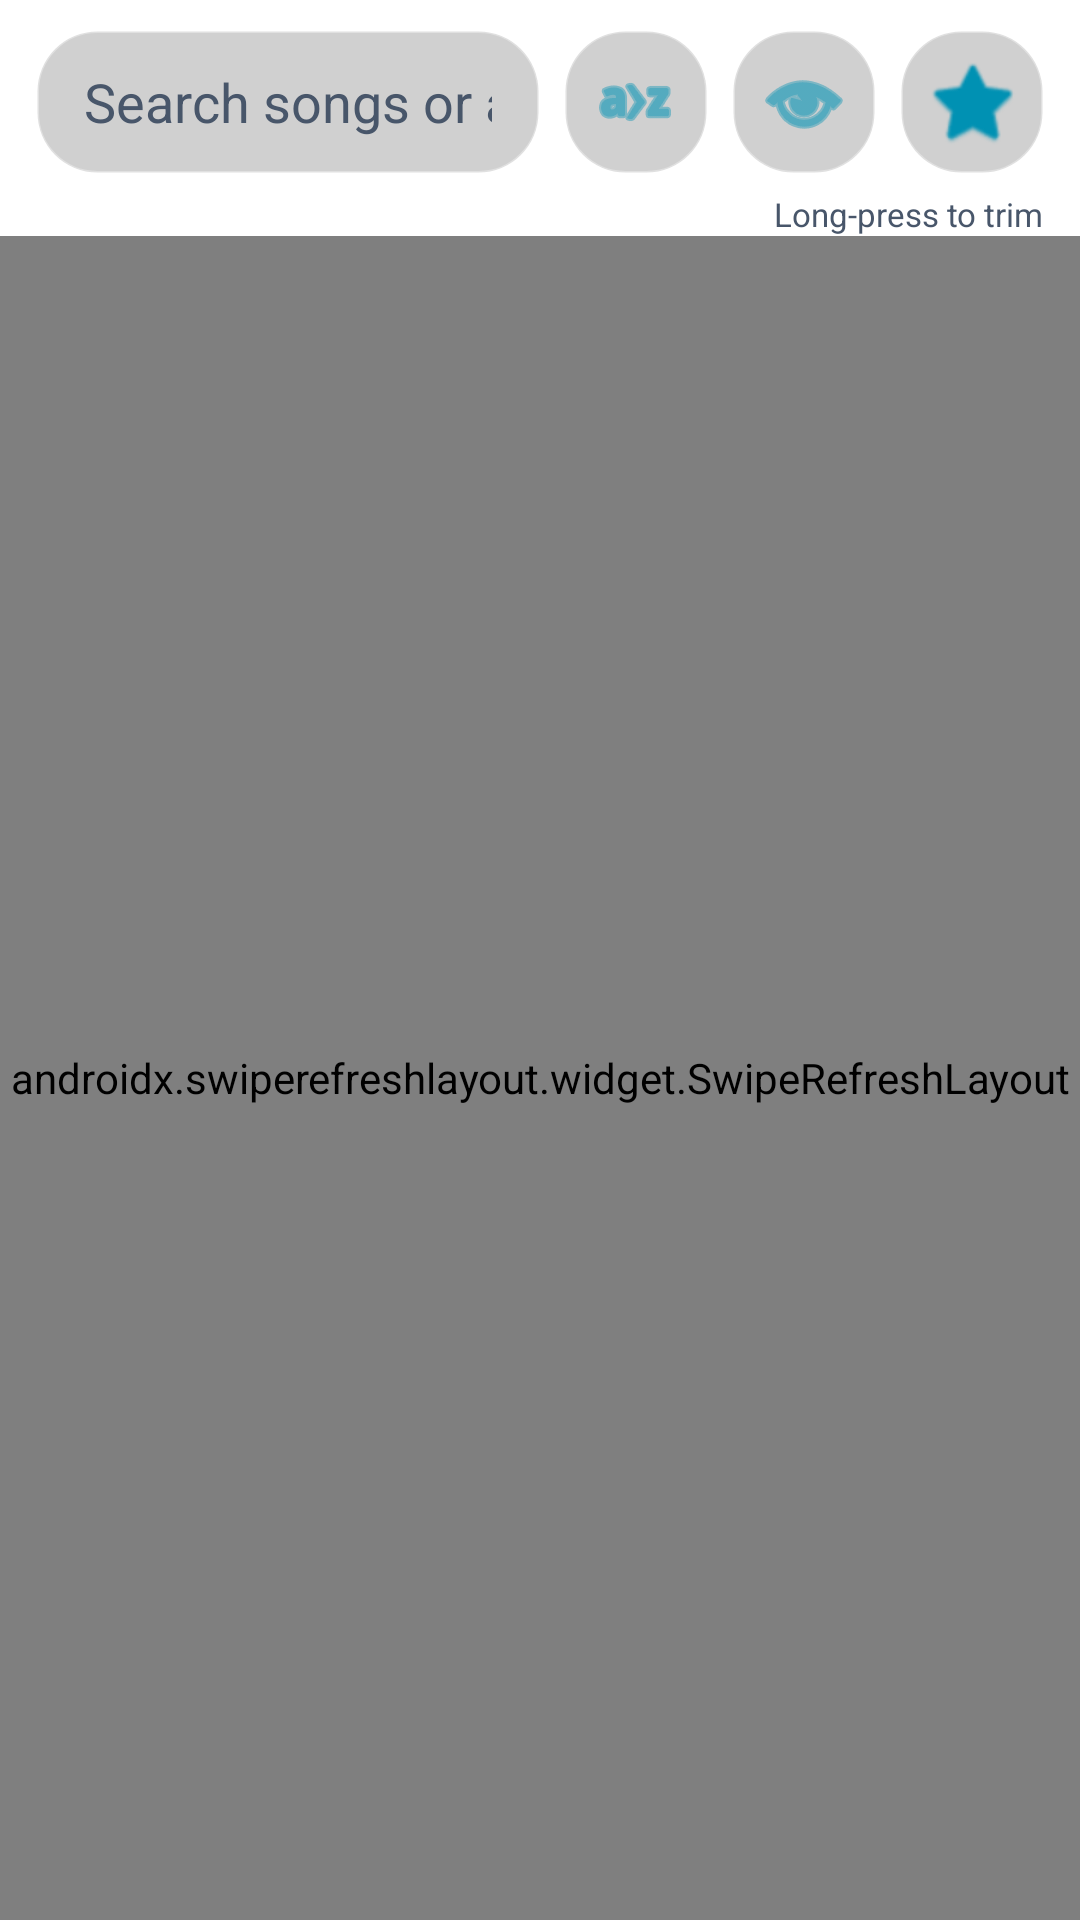

Icon click points for this 1080×1920 phone screenshot, format (x=x, y=y):
Choose library view: (x=804, y=102)
sort alphabetically: (x=636, y=102)
